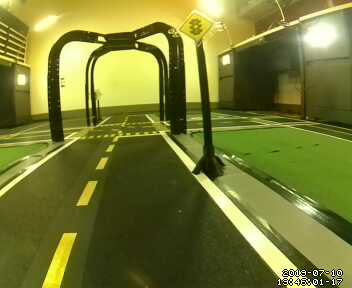Traffic light sign: (180, 10, 213, 41)
